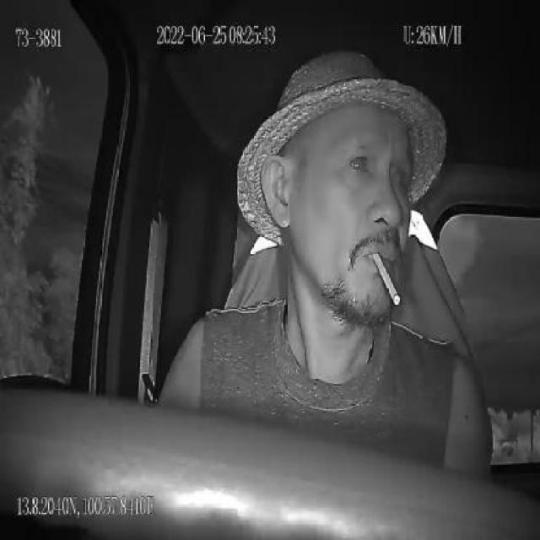smoking: (371, 250, 400, 307)
